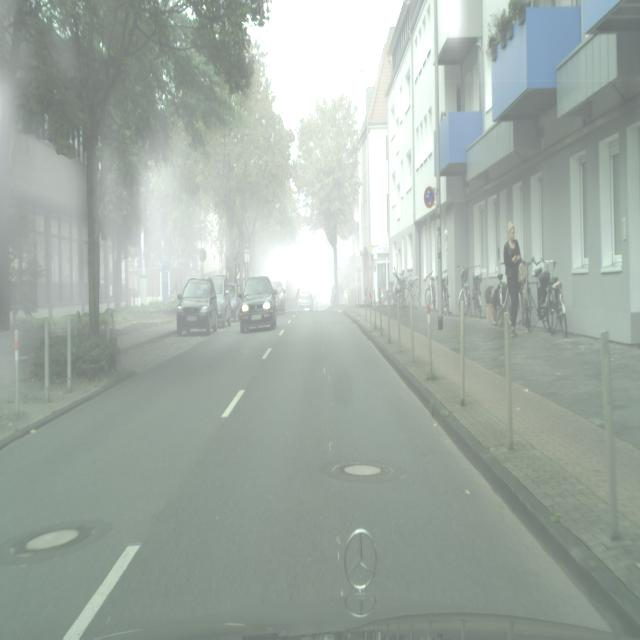bus: (176, 277, 219, 336), (239, 276, 277, 332), (205, 272, 232, 329), (272, 279, 287, 313), (228, 282, 241, 320), (296, 286, 314, 311), (316, 287, 332, 310)
car: (458, 264, 482, 318), (549, 276, 568, 336)
person: (504, 221, 522, 337)
